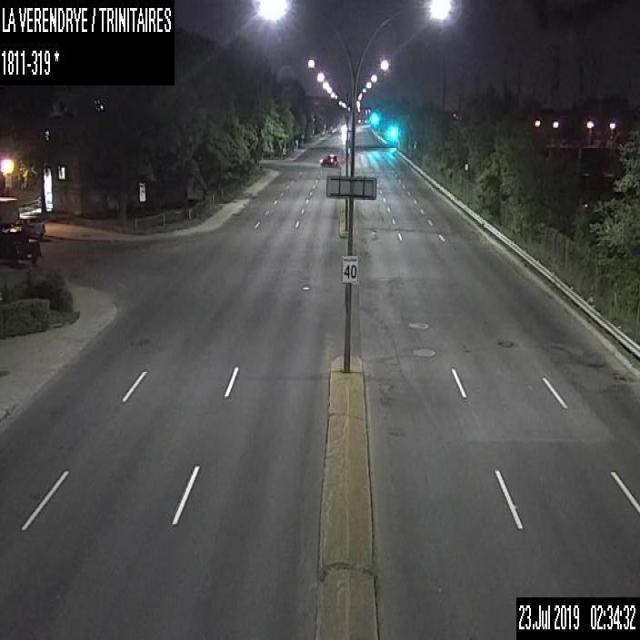vehicle: (0, 195, 45, 265), (18, 214, 44, 238), (319, 152, 337, 165)
